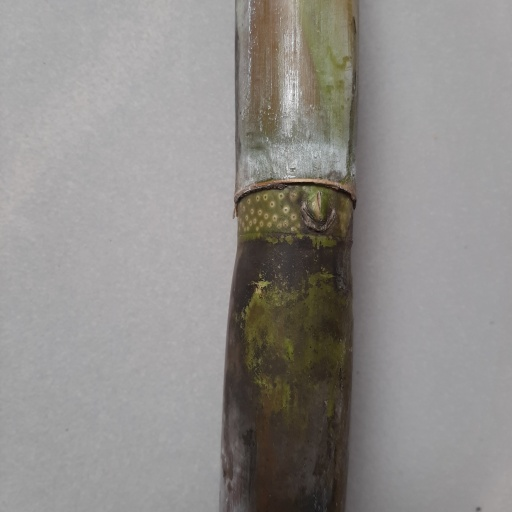Bud: (303, 190, 331, 228)
